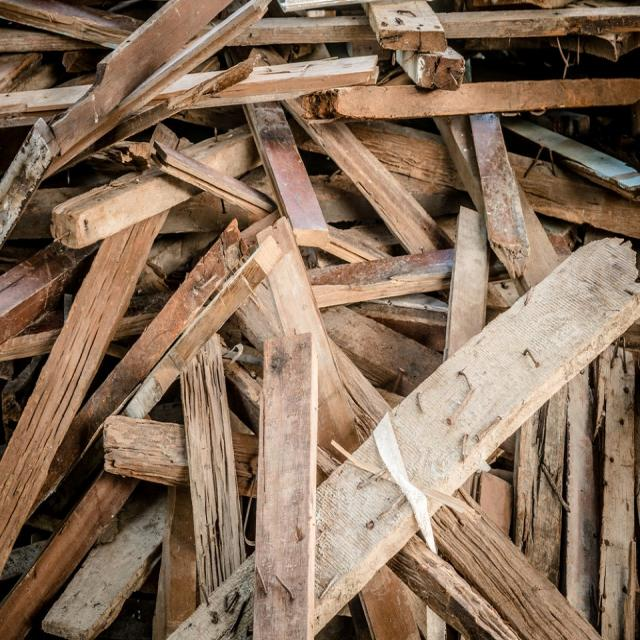green waste: (2, 8, 639, 640)
